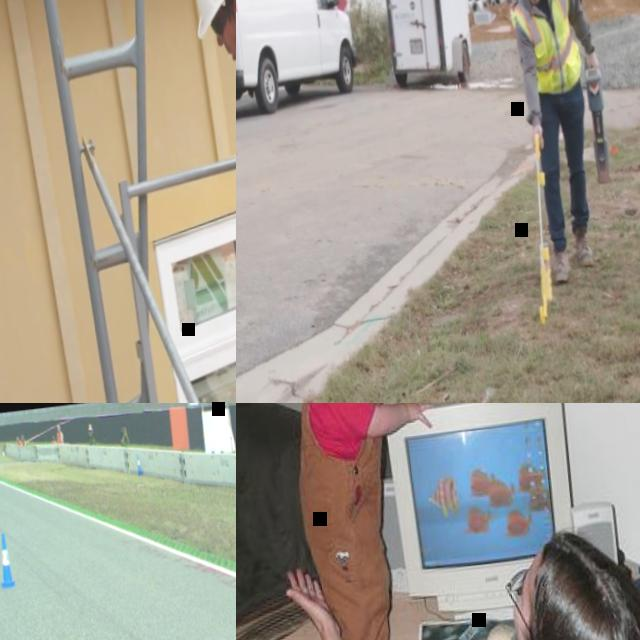NO-Hardhat: (525, 524, 640, 640), (88, 425, 92, 431), (120, 420, 123, 426), (56, 426, 59, 431)
NO-Mask: (508, 600, 538, 640), (225, 25, 236, 70), (528, 0, 543, 6)
NO-Safety Vest: (286, 403, 394, 539), (120, 430, 128, 445), (88, 431, 95, 444)
Person: (250, 403, 463, 640), (281, 521, 640, 640), (500, 0, 621, 286), (180, 0, 236, 403), (118, 417, 128, 448), (87, 424, 95, 445), (56, 426, 63, 444), (19, 435, 26, 447), (51, 436, 56, 445), (15, 437, 19, 444)
Safety Cone: (0, 531, 15, 588), (135, 456, 141, 476)
Safety Vest: (504, 0, 584, 100), (56, 432, 62, 445), (15, 440, 20, 446), (51, 439, 56, 445)
vehicle: (236, 0, 362, 120)
